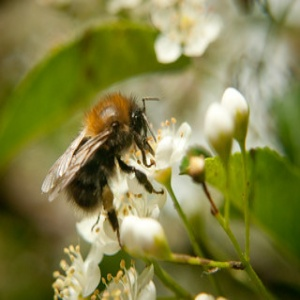bee: (43, 92, 161, 237)
